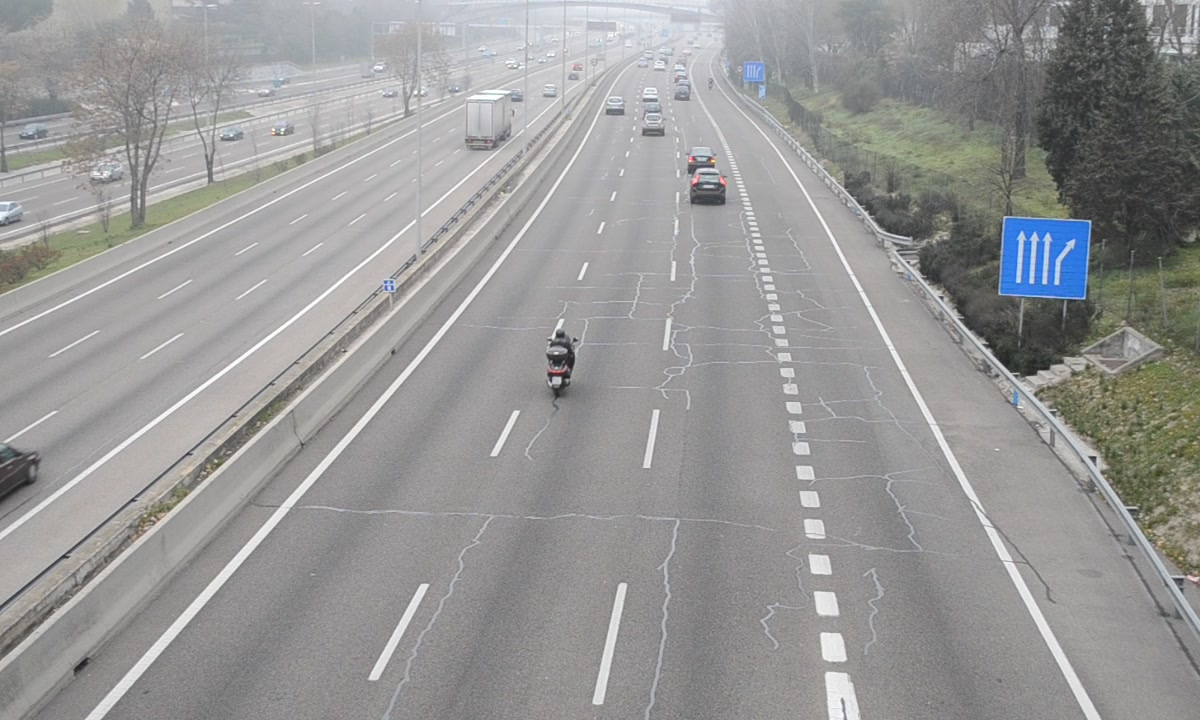car: (690, 169, 726, 205), (686, 145, 716, 171)
motorcycle: (543, 329, 578, 402)
